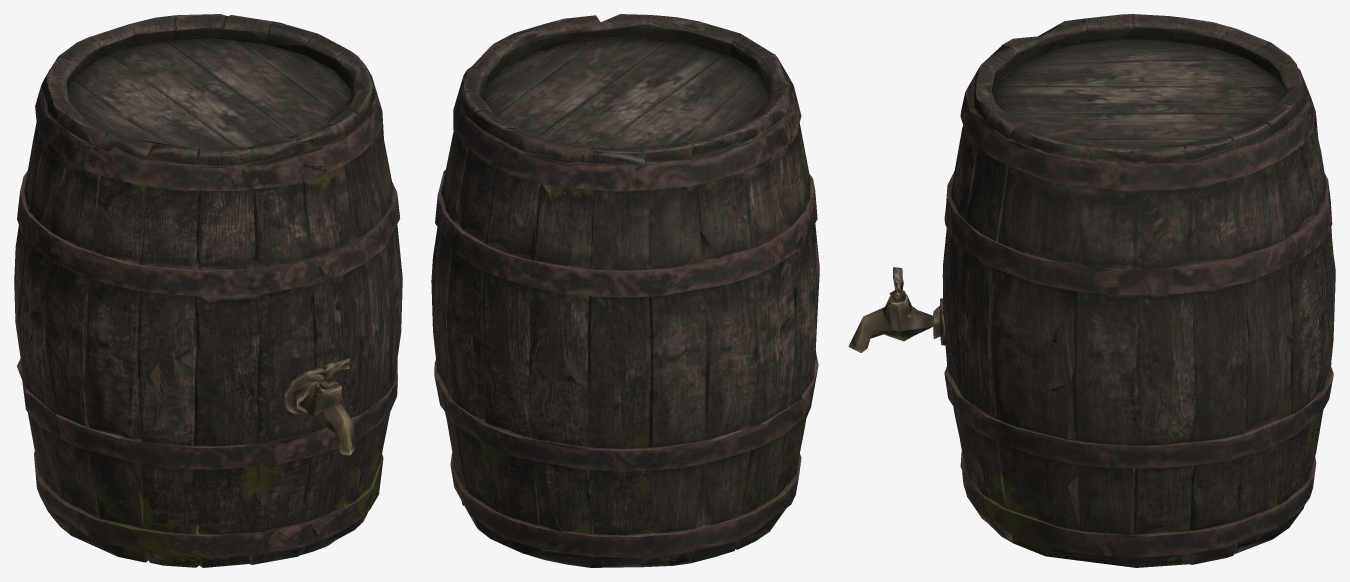
The model's file is sp_m_barrel.glb.
The picture shows the model from 3 angles, left to right: view 1: azimuth 30°, elevation 25°; view 2: azimuth 150°, elevation 25°; view 3: azimuth 270°, elevation 25°; orthographic projection.
Visible parts, largest first — view 1: Mesh_0; view 2: Mesh_0; view 3: Mesh_0.
Part boxes in pixels (x1,y1,x2,y2): Mesh_0: (14, 14, 402, 567); Mesh_0: (431, 14, 819, 567); Mesh_0: (848, 14, 1335, 567).
Bounding box in the file's own units: 1.52 × 1.8 × 1.9.
Materials: 1 (1 with a texture image).
